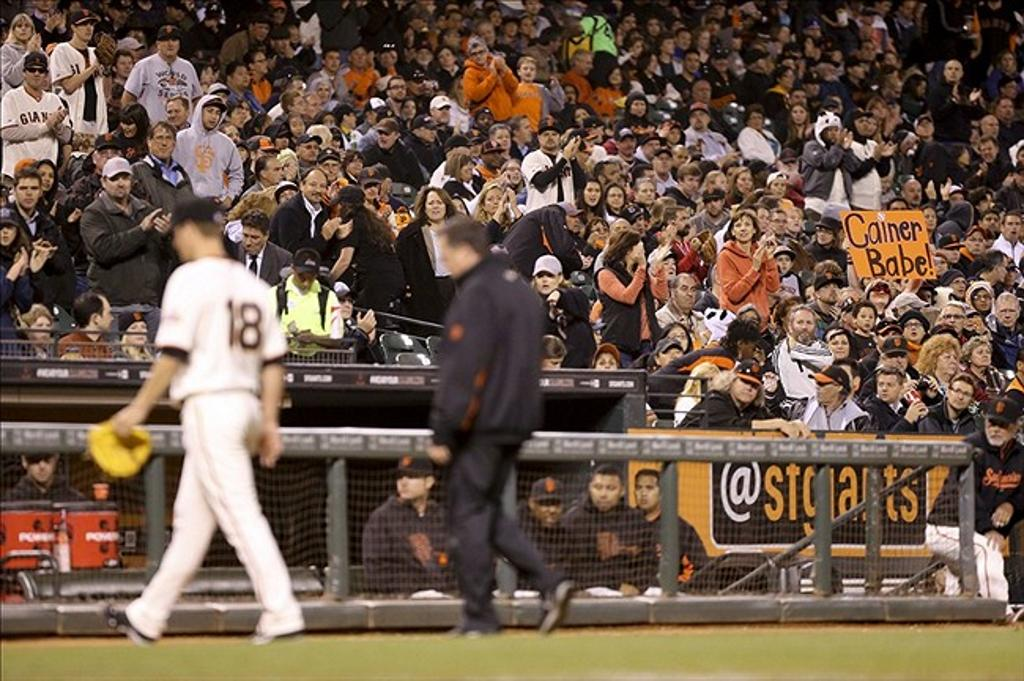face: (437, 237, 469, 280), (590, 473, 619, 511), (634, 474, 663, 511), (170, 221, 194, 261), (534, 493, 563, 525), (395, 471, 426, 500), (984, 415, 1012, 447), (27, 452, 56, 482), (733, 373, 758, 404), (151, 127, 175, 159), (16, 176, 39, 209), (303, 170, 326, 203), (792, 309, 815, 341), (832, 365, 854, 398), (106, 170, 131, 199), (28, 314, 51, 345), (534, 267, 559, 295), (658, 344, 683, 372), (949, 381, 972, 411), (674, 277, 696, 308), (96, 146, 122, 172), (994, 300, 1018, 328), (424, 190, 446, 220), (124, 319, 148, 346), (876, 373, 899, 401), (294, 262, 316, 291), (936, 347, 958, 376), (484, 187, 507, 214), (262, 157, 284, 185), (665, 326, 687, 354), (877, 328, 901, 353), (943, 305, 964, 333), (242, 224, 262, 253), (595, 352, 617, 378), (98, 296, 114, 331), (541, 353, 563, 378), (815, 377, 837, 402), (166, 101, 187, 127), (829, 334, 850, 360), (319, 155, 339, 182), (741, 335, 758, 366), (733, 216, 753, 242), (841, 304, 861, 330), (333, 293, 353, 319), (602, 162, 621, 189), (903, 317, 924, 341), (25, 62, 45, 87), (202, 103, 221, 129), (966, 229, 985, 255), (583, 181, 601, 207), (818, 281, 839, 303), (970, 344, 991, 366), (159, 34, 179, 57), (538, 127, 558, 150), (36, 164, 53, 191), (856, 307, 875, 331), (711, 172, 729, 197), (734, 170, 752, 195), (673, 209, 690, 235), (1004, 215, 1021, 241), (75, 19, 94, 42), (971, 288, 990, 311), (658, 256, 676, 280), (904, 181, 922, 205), (198, 65, 215, 90), (739, 312, 759, 333), (993, 254, 1008, 282), (119, 115, 138, 137), (231, 64, 249, 87), (518, 59, 536, 82), (606, 186, 624, 209), (589, 221, 607, 244), (889, 200, 907, 223), (979, 140, 997, 163), (637, 180, 654, 204), (517, 117, 533, 142), (629, 238, 645, 263), (771, 211, 787, 236), (278, 188, 297, 209), (300, 141, 319, 162), (377, 128, 396, 149), (493, 127, 511, 149), (681, 171, 699, 193), (116, 54, 133, 77), (222, 126, 239, 149), (505, 162, 522, 185), (947, 275, 964, 298), (351, 46, 367, 70), (577, 52, 593, 76), (369, 108, 388, 128), (815, 225, 834, 245), (251, 20, 269, 41), (484, 146, 502, 167), (643, 138, 661, 159), (653, 152, 671, 173), (704, 195, 722, 216), (942, 242, 960, 263), (324, 50, 341, 72), (389, 78, 406, 100), (628, 215, 645, 237), (774, 253, 791, 275), (804, 286, 821, 308), (251, 50, 267, 73), (688, 110, 707, 129), (869, 286, 889, 304), (821, 123, 839, 143), (917, 117, 935, 137), (287, 80, 304, 101), (418, 121, 435, 142), (478, 23, 495, 44), (619, 134, 636, 155), (563, 211, 580, 232), (724, 165, 741, 186), (853, 114, 869, 136), (983, 117, 999, 139), (978, 192, 994, 214), (786, 209, 801, 232), (921, 207, 936, 230), (433, 103, 450, 123), (982, 212, 999, 232), (790, 91, 807, 111), (997, 99, 1014, 119), (0, 224, 16, 245), (399, 98, 415, 119), (684, 52, 700, 73), (695, 83, 711, 104), (770, 179, 786, 200), (1002, 263, 1017, 285), (574, 108, 592, 126), (14, 21, 31, 40), (930, 257, 947, 276), (362, 179, 378, 199), (477, 112, 493, 132), (446, 30, 462, 50), (944, 61, 960, 81), (347, 154, 362, 175), (409, 75, 424, 96), (756, 208, 769, 232), (168, 4, 185, 22), (470, 45, 487, 63), (629, 99, 646, 117), (269, 5, 285, 24), (111, 6, 127, 25), (319, 115, 335, 134), (437, 48, 453, 67), (713, 54, 729, 73), (790, 105, 806, 124), (672, 150, 688, 169), (613, 223, 629, 242), (315, 83, 330, 103), (290, 118, 305, 138), (562, 85, 577, 105), (949, 191, 964, 211), (401, 27, 415, 48), (884, 101, 901, 118), (780, 157, 796, 175), (230, 106, 243, 128), (274, 133, 289, 152), (447, 12, 462, 31), (622, 14, 637, 33), (646, 18, 661, 37), (871, 99, 886, 118), (860, 41, 875, 60), (459, 160, 472, 181), (607, 67, 623, 84), (292, 95, 307, 113), (327, 135, 342, 153), (781, 58, 796, 76), (342, 109, 356, 128), (677, 32, 691, 51), (748, 110, 762, 129), (780, 69, 794, 88), (863, 117, 877, 136), (913, 79, 927, 98), (331, 199, 345, 218), (823, 105, 839, 121), (415, 46, 430, 63), (458, 72, 473, 89), (665, 127, 680, 144), (850, 61, 865, 78), (806, 78, 820, 96), (883, 52, 897, 70), (887, 85, 901, 103), (901, 136, 915, 154), (213, 90, 226, 109), (918, 288, 931, 307), (1004, 79, 1017, 98), (273, 35, 288, 51), (697, 29, 709, 49), (706, 18, 721, 34), (805, 26, 820, 42), (204, 9, 220, 24), (488, 10, 502, 27), (902, 1, 916, 18), (549, 34, 562, 52), (237, 102, 249, 121), (645, 53, 657, 72), (379, 52, 393, 68), (671, 20, 685, 36), (710, 4, 724, 20), (520, 18, 533, 35), (662, 37, 675, 54), (1000, 52, 1013, 69), (234, 145, 246, 163), (788, 48, 802, 63), (504, 20, 517, 36), (777, 26, 790, 42), (631, 40, 643, 57), (730, 33, 742, 50), (958, 148, 970, 165), (34, 0, 54, 10), (525, 0, 539, 14), (483, 1, 496, 16), (579, 137, 592, 151), (437, 14, 449, 29), (753, 55, 765, 70), (879, 1, 891, 15), (833, 9, 845, 23), (411, 14, 423, 27), (742, 16, 754, 29), (804, 37, 815, 51), (831, 51, 842, 65), (872, 29, 883, 43), (128, 47, 139, 61), (1015, 168, 1023, 185), (1017, 147, 1024, 163), (863, 13, 873, 24), (778, 0, 788, 9)
